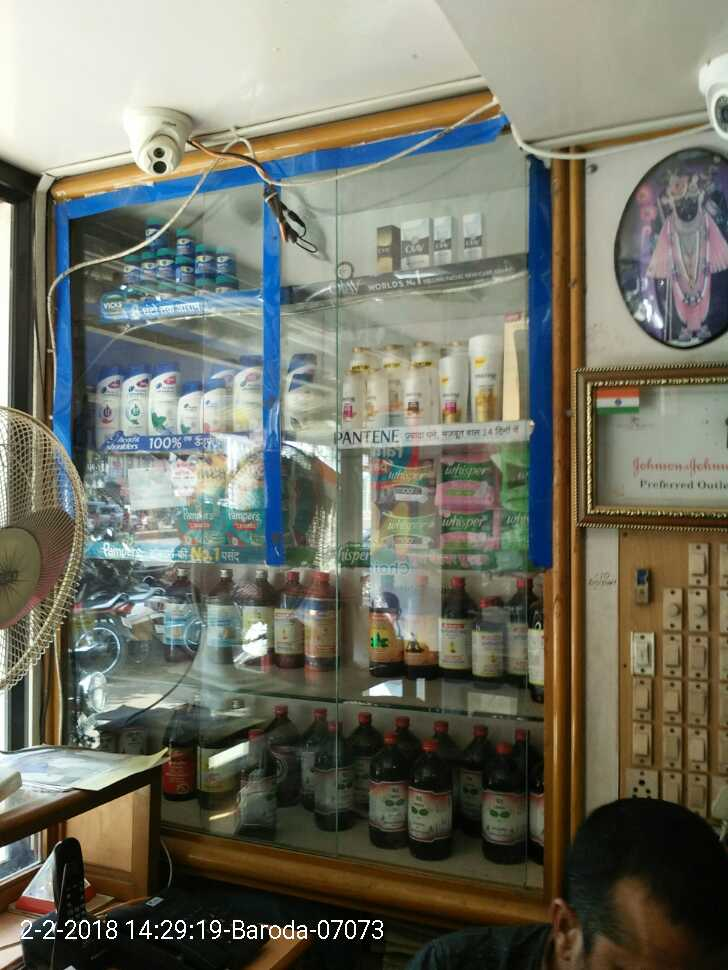beauty: (468, 327, 504, 420), (230, 355, 264, 432), (92, 375, 128, 443), (144, 369, 180, 436), (200, 380, 232, 436), (441, 350, 466, 421), (397, 220, 431, 271), (358, 370, 388, 426), (400, 368, 429, 425), (432, 209, 458, 270), (335, 369, 361, 426), (122, 371, 146, 432), (460, 211, 491, 257), (372, 226, 397, 278), (175, 387, 198, 436)
pharmacy: (165, 459, 228, 552), (436, 445, 498, 512), (227, 466, 266, 555), (369, 503, 439, 550), (375, 454, 436, 501), (432, 511, 503, 550), (111, 251, 142, 290), (135, 255, 160, 285), (156, 246, 174, 285), (216, 245, 235, 277), (177, 257, 195, 287), (194, 244, 211, 274), (177, 226, 192, 258)
